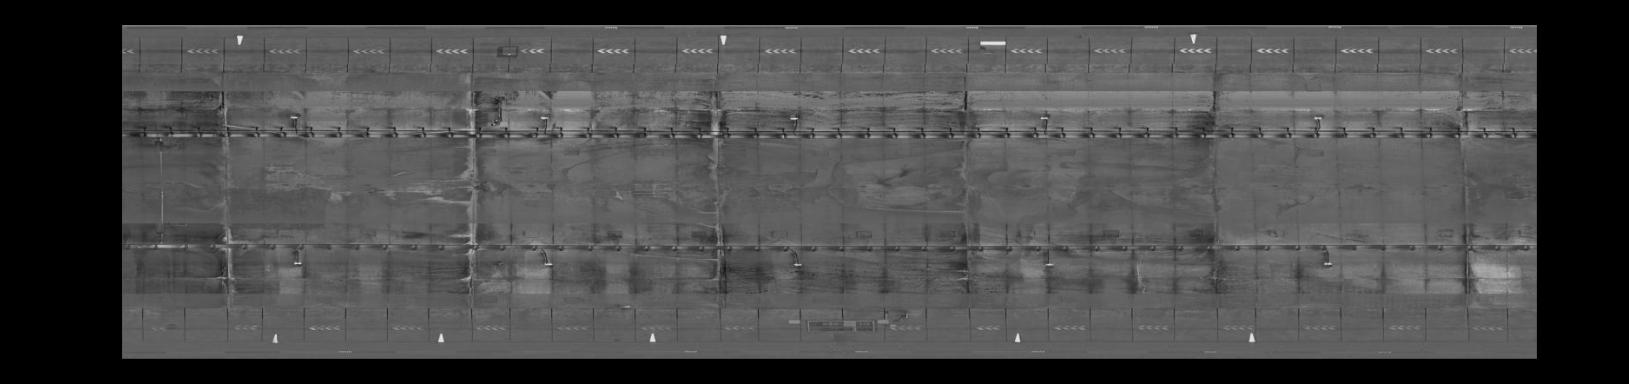light: (288, 257, 311, 271), (534, 113, 555, 124), (1319, 257, 1336, 270), (538, 259, 558, 270), (287, 112, 303, 124), (787, 260, 807, 270), (1034, 113, 1052, 122), (1040, 259, 1057, 270), (1308, 114, 1326, 124), (787, 113, 803, 124)
